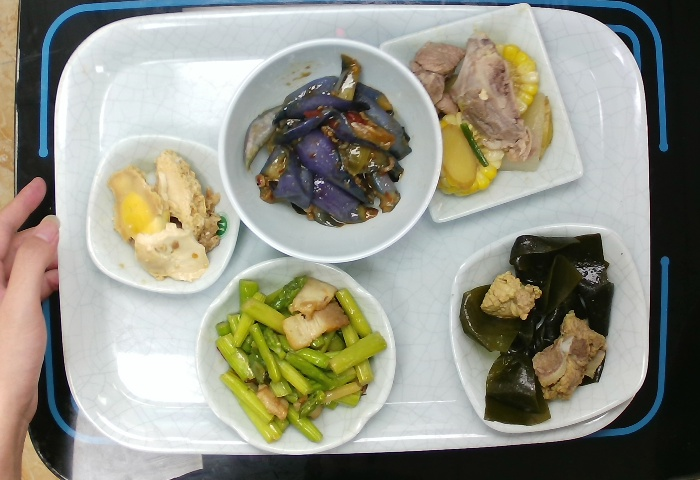JYsf-Ao_Yuan_Wan: (194, 253, 400, 463)
JYsf-Fan_Wan: (219, 32, 447, 269)
JYsf-Si_Fang_Die: (82, 129, 247, 301)
WCQzf-Da_Si_Fang_Die: (441, 219, 653, 436)
WCQzf-Ru_Ci_Si_Fang_Die: (375, 1, 588, 231)
